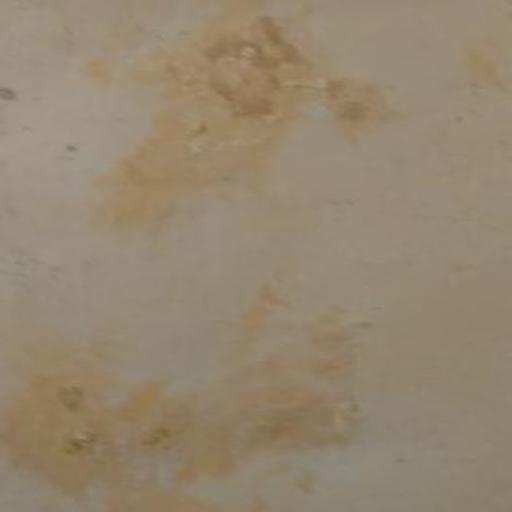stain: (5, 1, 381, 512)
